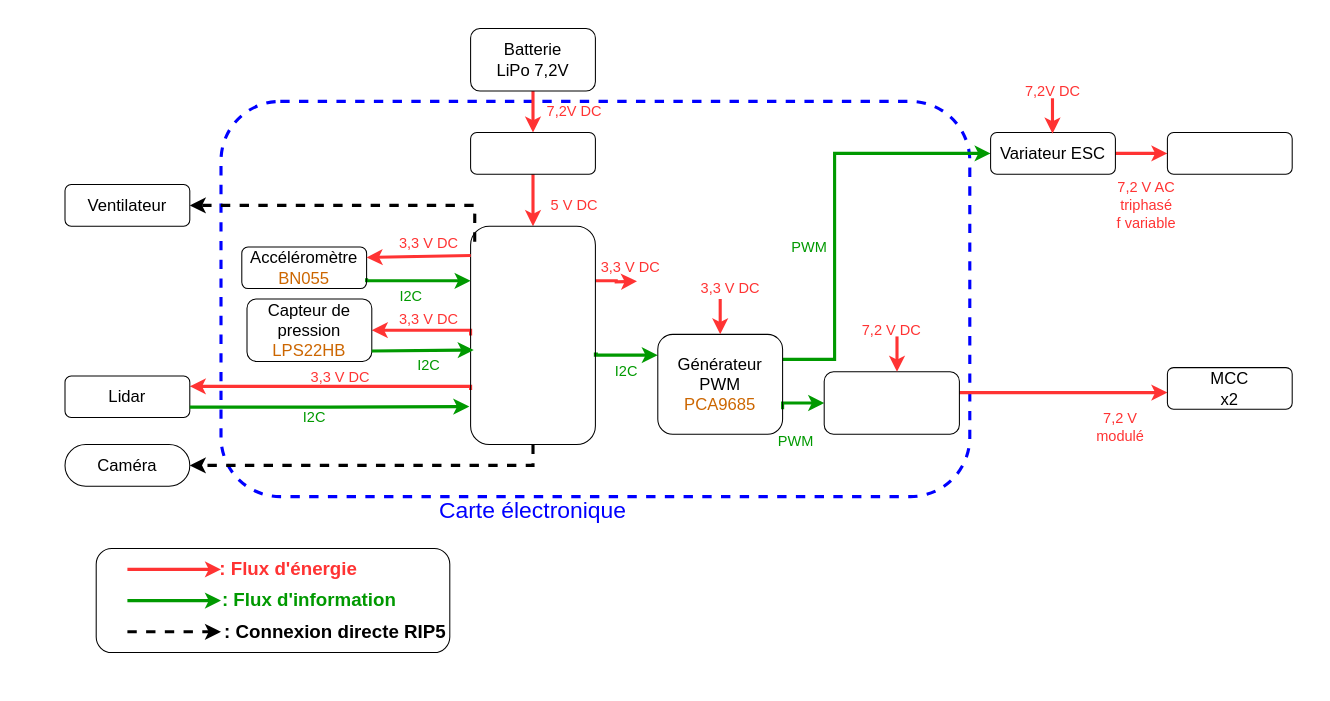
Image size: 1330x701. Some labels were removed from this diagram. The shapes that lost their labels are listed below. From the top down, each one's centre as x and y in pixels, then its label:
At point 532,153: "Régulateur de tension".
At point 1229,153: "Moteur BLDC x6".
At point 532,335: "Connecteur RPI5".
At point 891,402: "Pont en H L293D".
